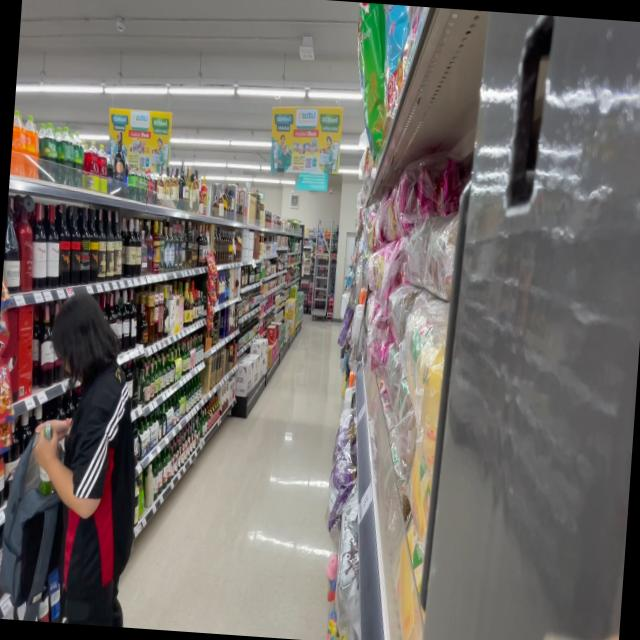shoplifting: (0, 279, 155, 627)
